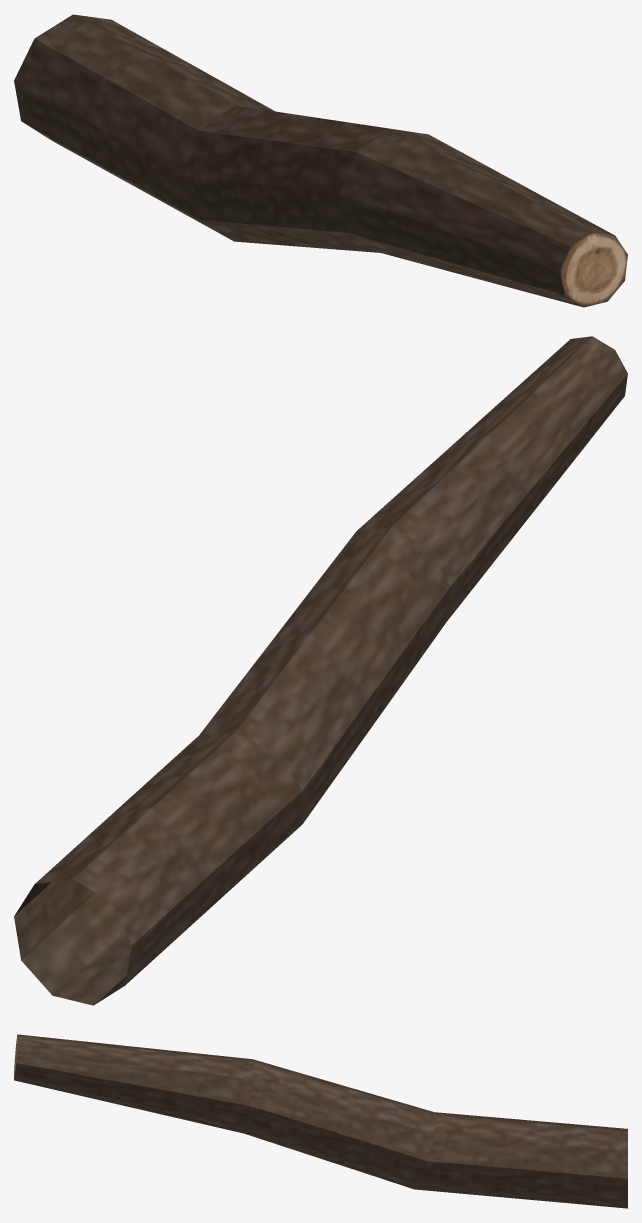
The model's file is sdwsk-timberman-branch3.fbx.
The picture shows the model from 3 angles, top to bottom: view 1: azimuth 30°, elevation 25°; view 2: azimuth 150°, elevation 25°; view 3: azimuth 270°, elevation 25°; orthographic projection. The views are drawn at different scales.
Parts seen in each view (by area): view 1: sdwsk-timberman-branch3; view 2: sdwsk-timberman-branch3; view 3: sdwsk-timberman-branch3.
Part boxes in pixels (x1,y1,x2,y2): sdwsk-timberman-branch3: (14, 14, 627, 307); sdwsk-timberman-branch3: (14, 336, 627, 1005); sdwsk-timberman-branch3: (14, 1034, 627, 1208).
Bounding box in the file's own units: 26.2 × 60.09 × 200.
Materials: 1 (1 with a texture image).
